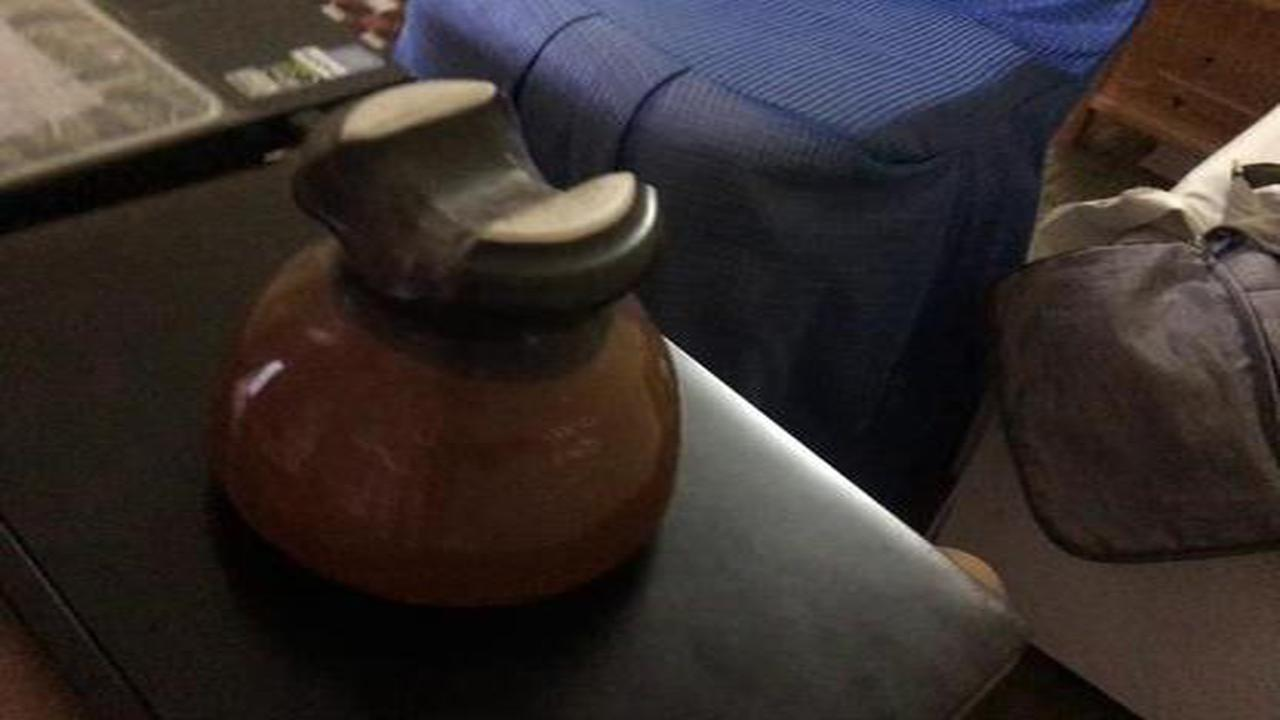insulator_pin: (188, 58, 724, 629)
